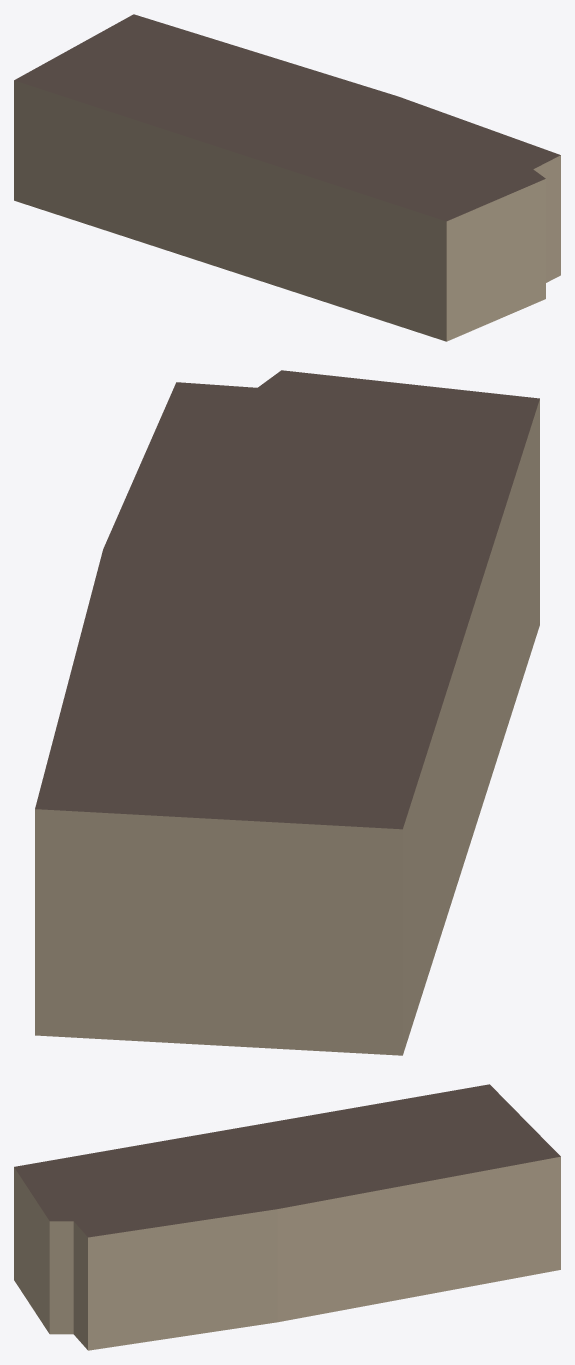
3 views of the same model, one above another, from view 1: azimuth 30°, elevation 25°; view 2: azimuth 150°, elevation 25°; view 3: azimuth 270°, elevation 25° (orthographic). The views are drawn at different scales.
Parts seen in each view (by area): view 1: HP-w1515076982; view 2: HP-w1515076982; view 3: HP-w1515076982.
Boxes of the visible parts, x1,y1,x2,y2 form: HP-w1515076982: (14,14,560,341); HP-w1515076982: (35,370,539,1055); HP-w1515076982: (14,1084,560,1350).
Size of the model in its own units: 26.13 by 9 by 39.42.
